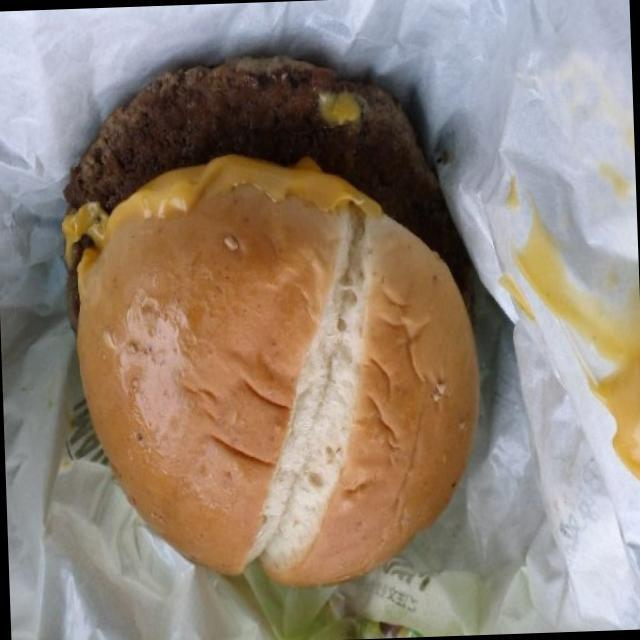Hamburger: (31, 36, 493, 612)
